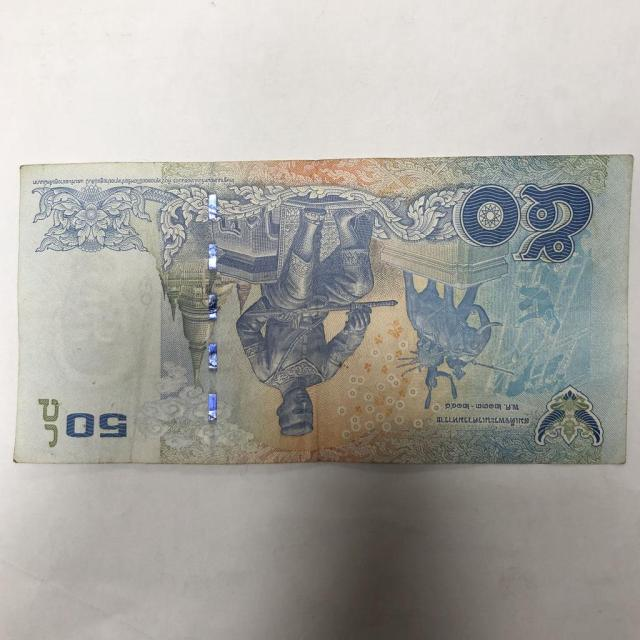THAI50: (10, 156, 638, 470)
